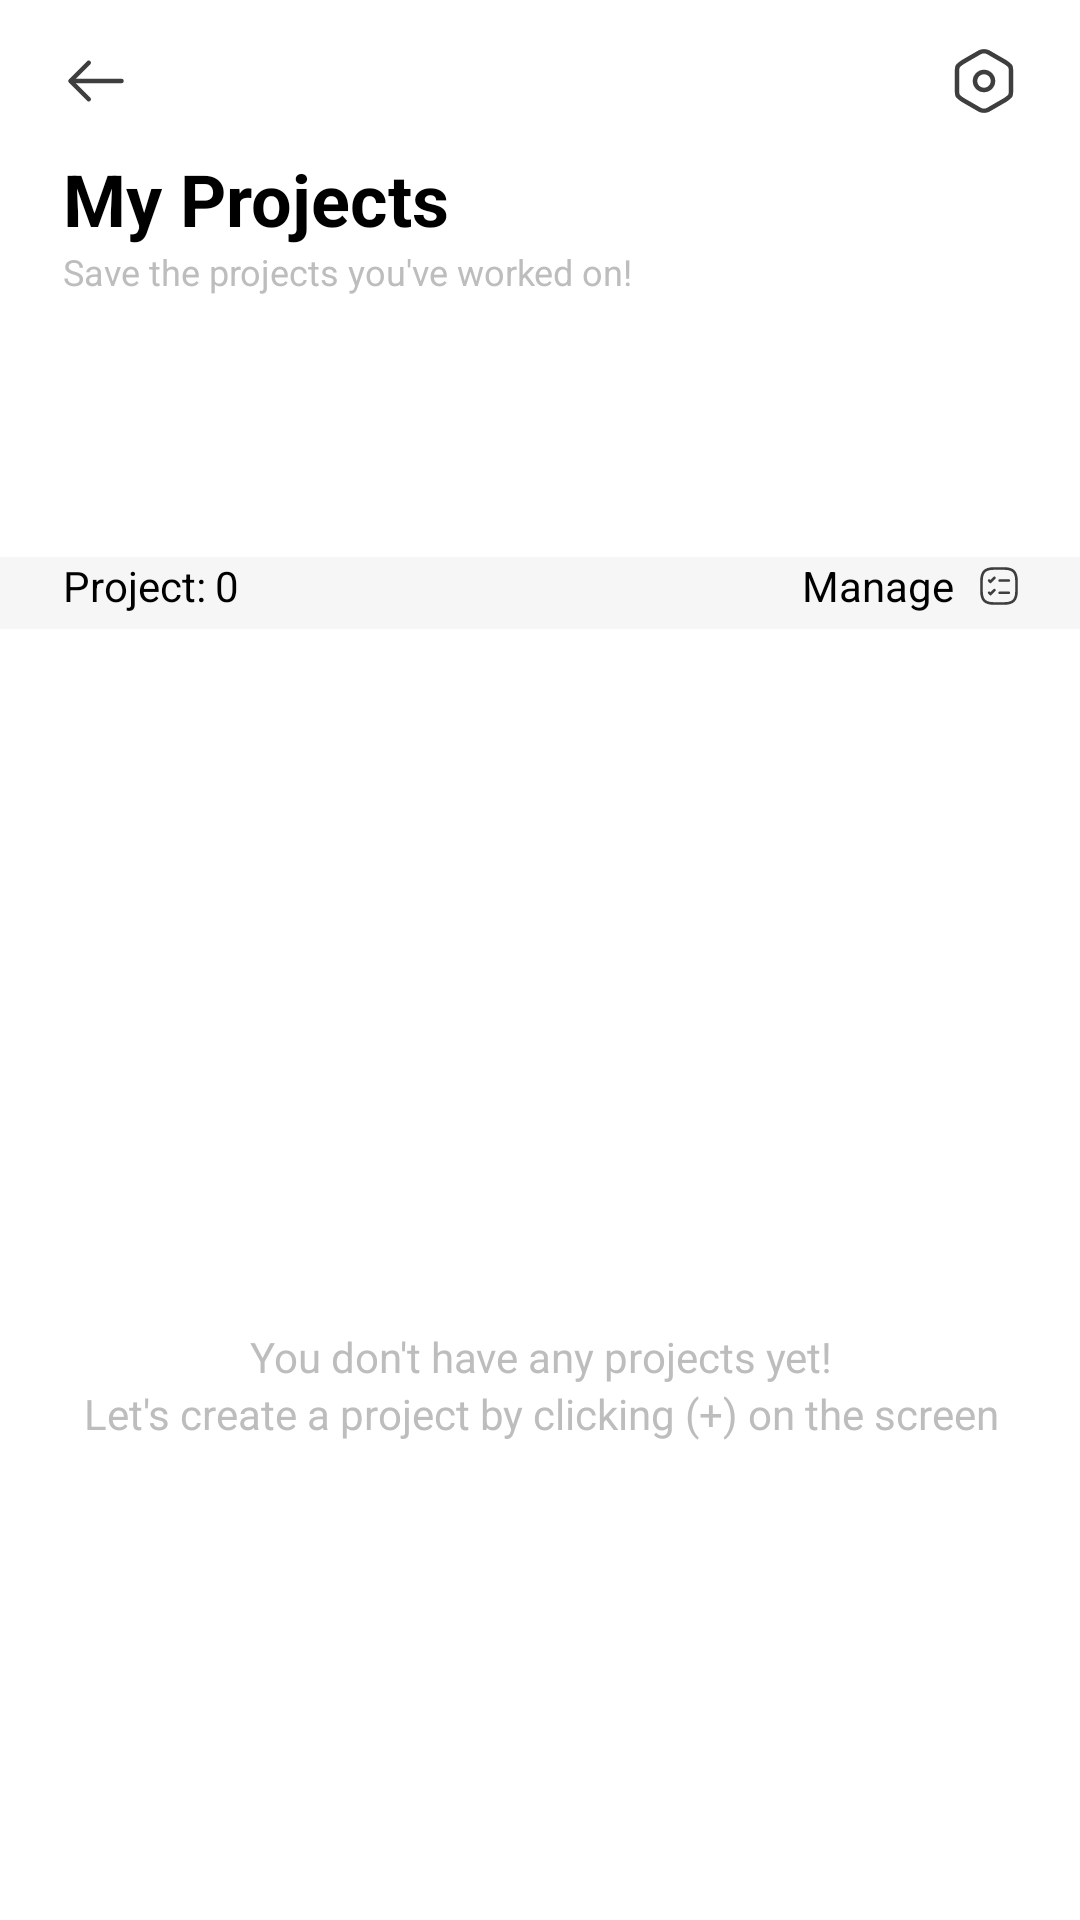

Locate icon controls on the screen. Image size 1080×1920, boxes as (x1, y1, x2, y2).
return left: (68, 60, 124, 102)
